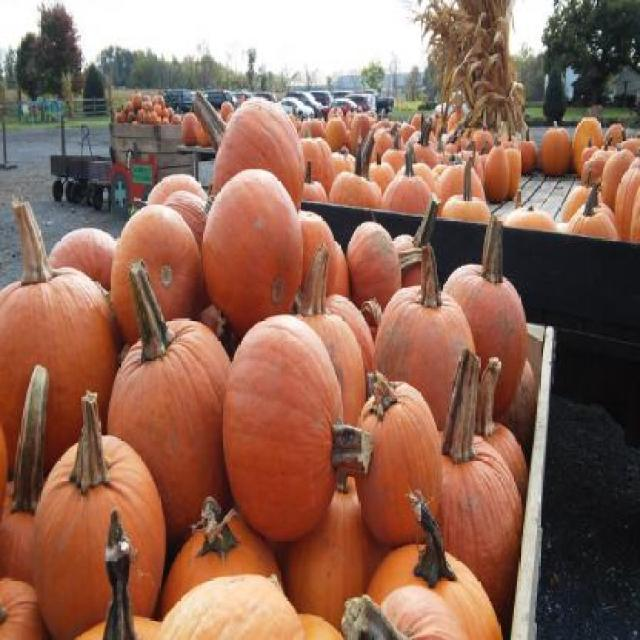Pumpkin: (0, 90, 542, 638), (182, 96, 638, 242), (220, 308, 368, 544), (116, 90, 178, 128)
